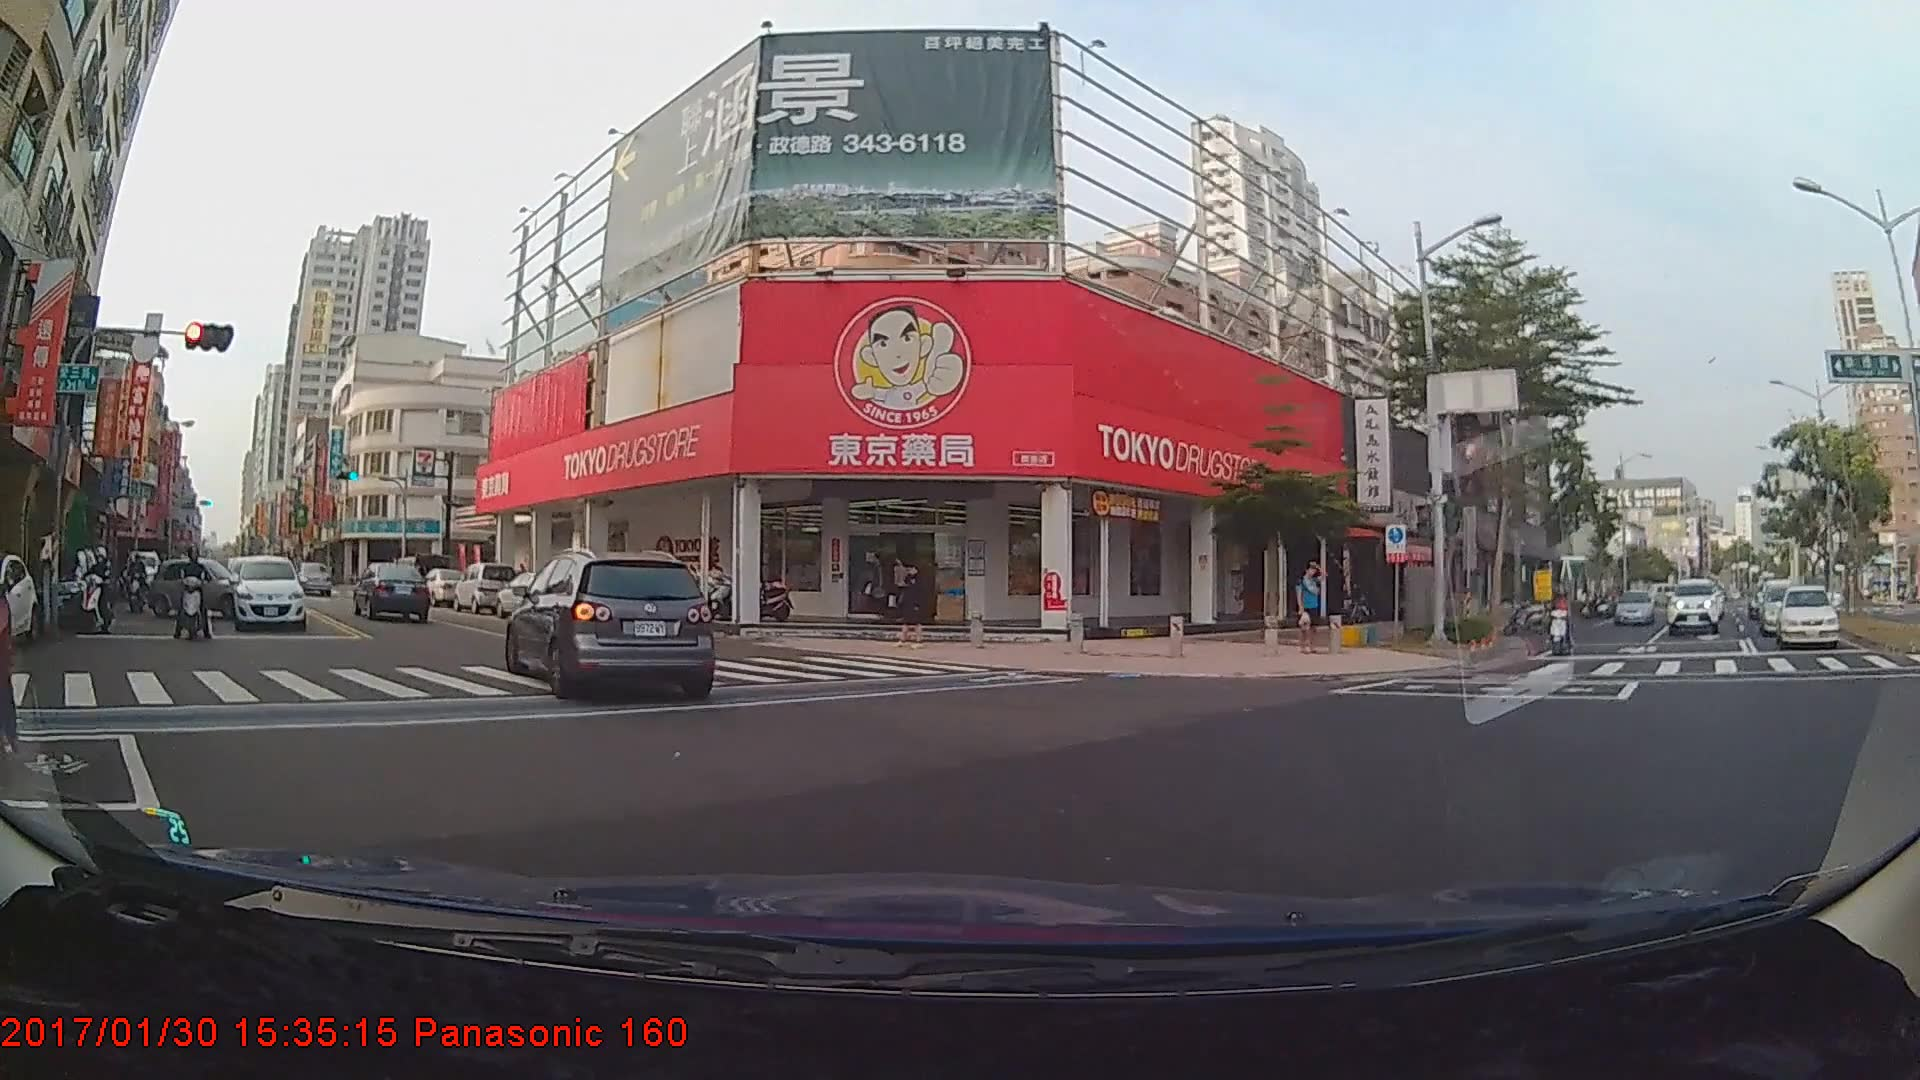pedestrian: (893, 563, 935, 652), (1297, 560, 1332, 661), (863, 551, 891, 626)
rider: (171, 550, 218, 647), (73, 545, 120, 634), (1544, 588, 1582, 657)
vehicle: (503, 548, 717, 699), (146, 556, 248, 617), (229, 556, 307, 633), (353, 560, 429, 622), (494, 569, 580, 620), (1780, 591, 1838, 652), (1759, 582, 1821, 638), (451, 561, 516, 614), (1666, 578, 1721, 636), (1613, 591, 1655, 627)
